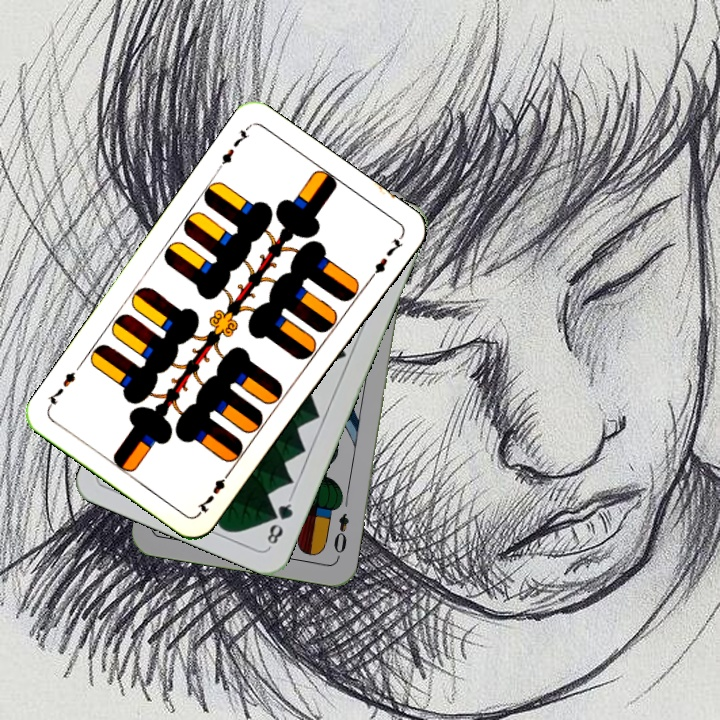E7: (193, 466, 235, 517), (212, 122, 253, 174)
EO: (329, 509, 352, 561)
G8: (263, 494, 296, 550)
